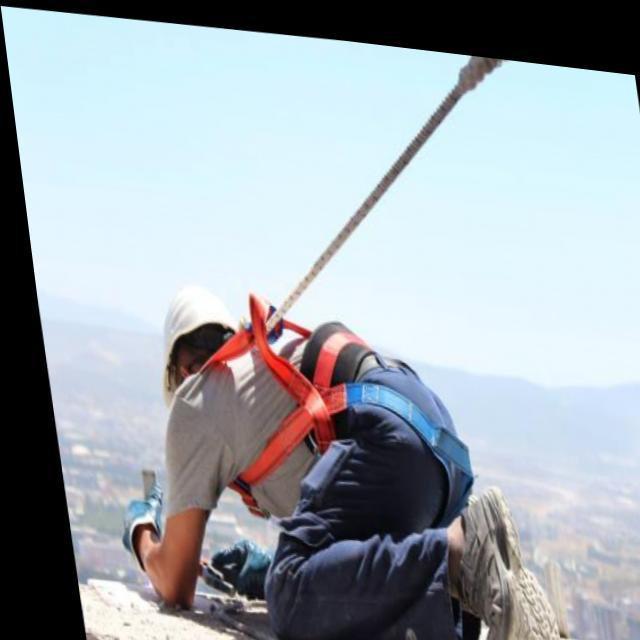belt: (181, 286, 472, 538)
